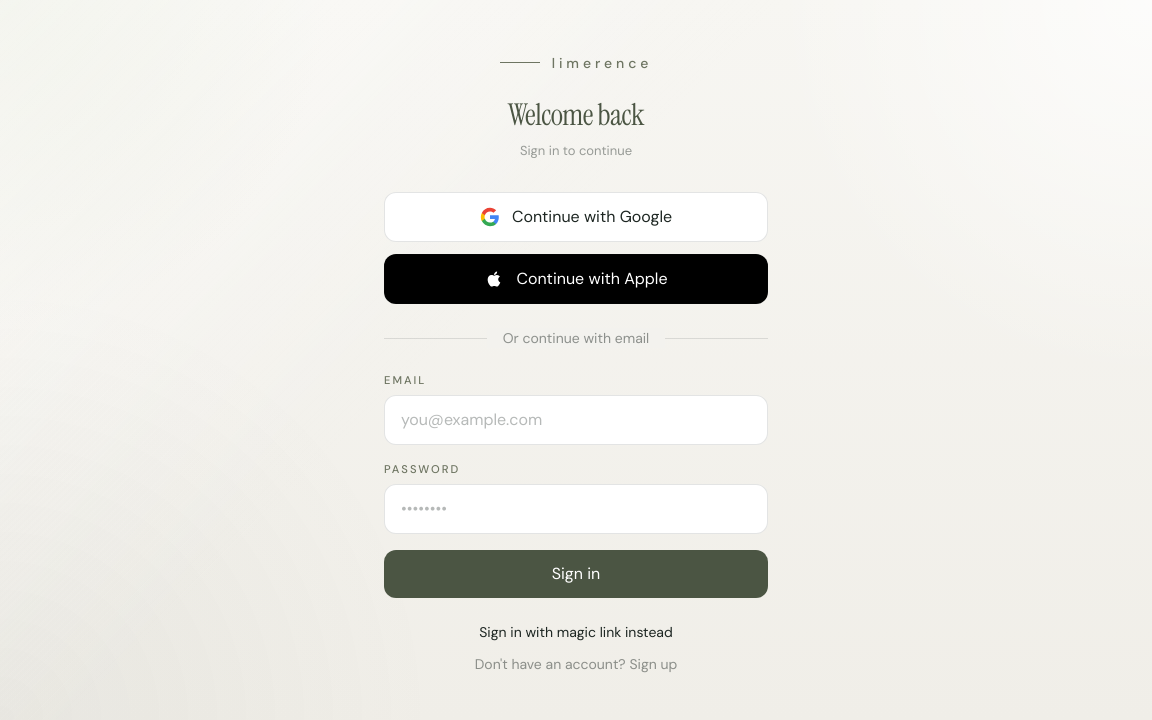
Scenario: LoginPage › switches into magic-link mode
Click the button "Sign in with magic link instead" at (576, 632), box [384, 622, 768, 642]
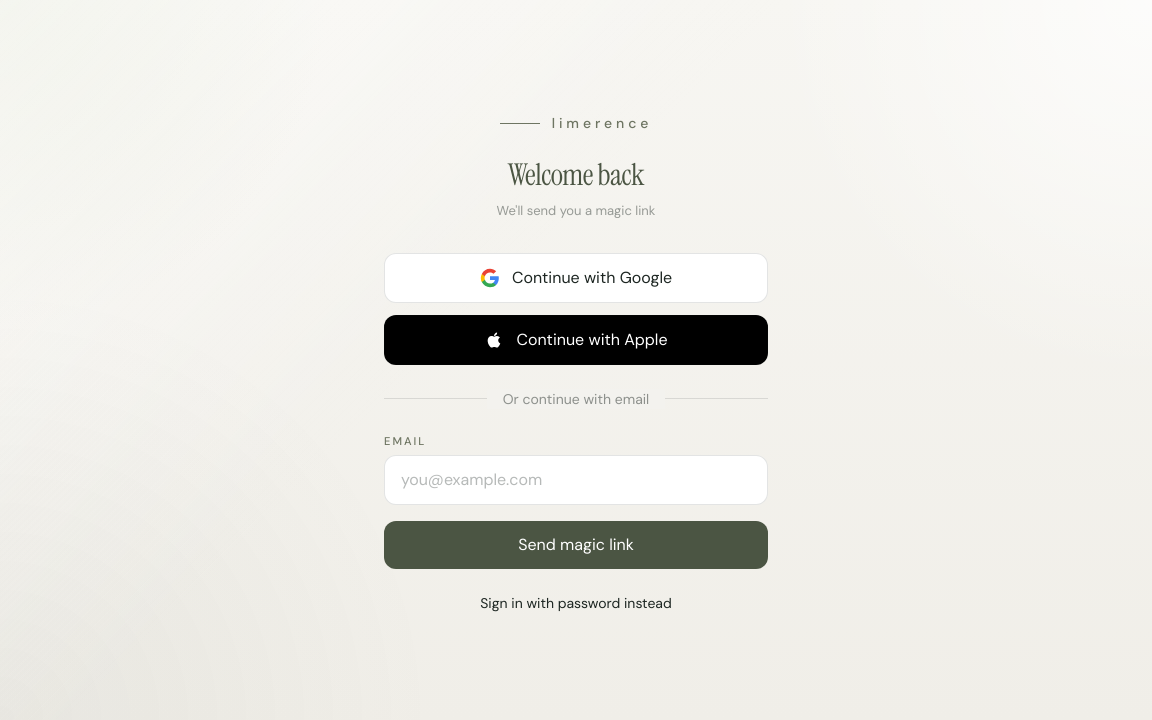
expect the text "We'll send you a magic link" is shown: met, box [497, 202, 655, 219]
expect the button "Send magic link" is shown: met, box [384, 521, 768, 569]
